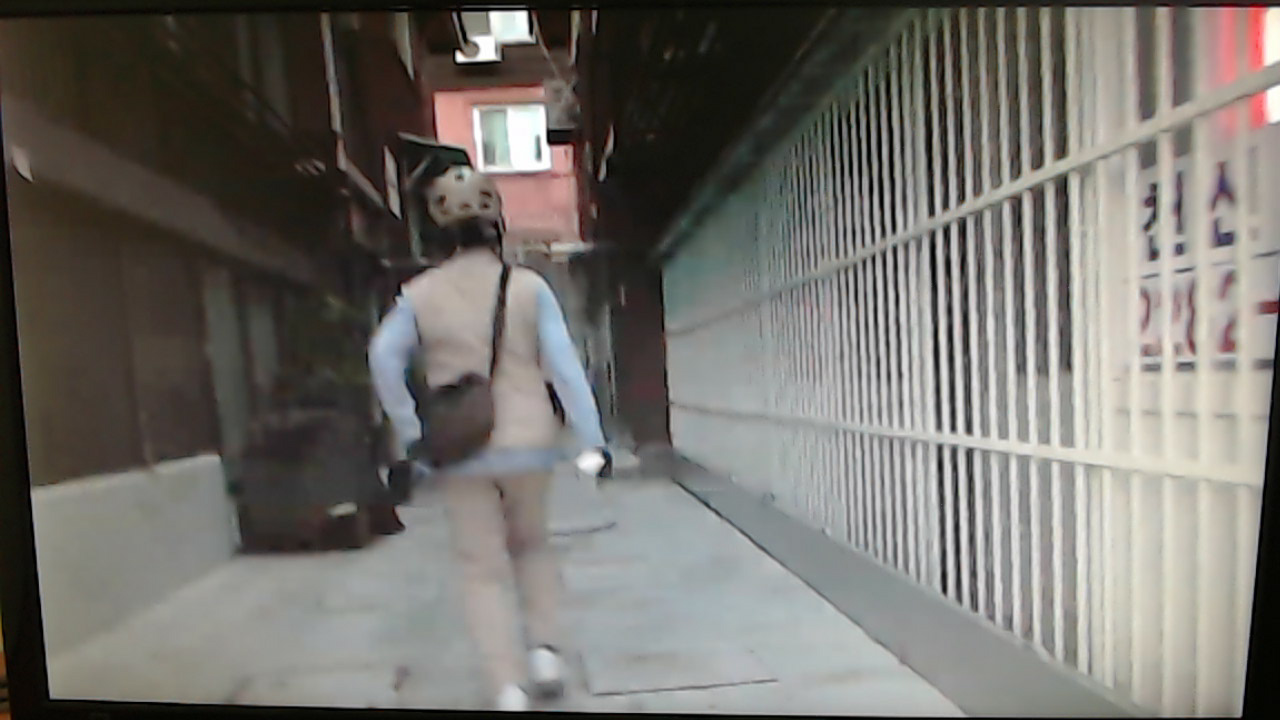Yakurut: (369, 160, 631, 717)
